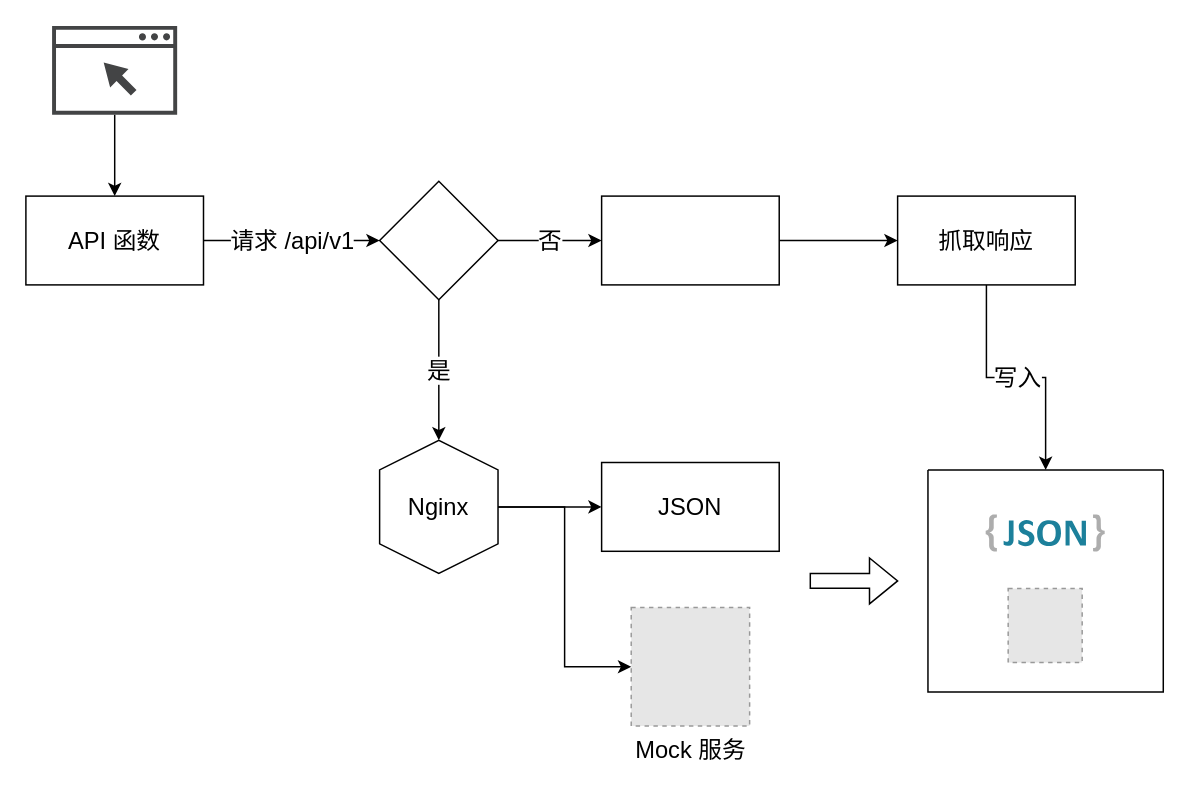
The diagram is 1190 pixels wide and 789 high, and some of its shapes have lost their labels. Grey dashed boxes stand in for pictures. Each missing label, with the centre of its shape:
"代理" belongs at point 438,240.
"后端真实服务" belongs at point 689,240.
